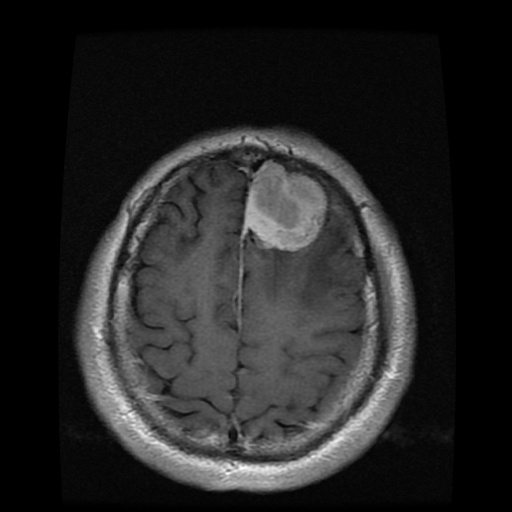meningioma: (242, 158, 327, 250)
